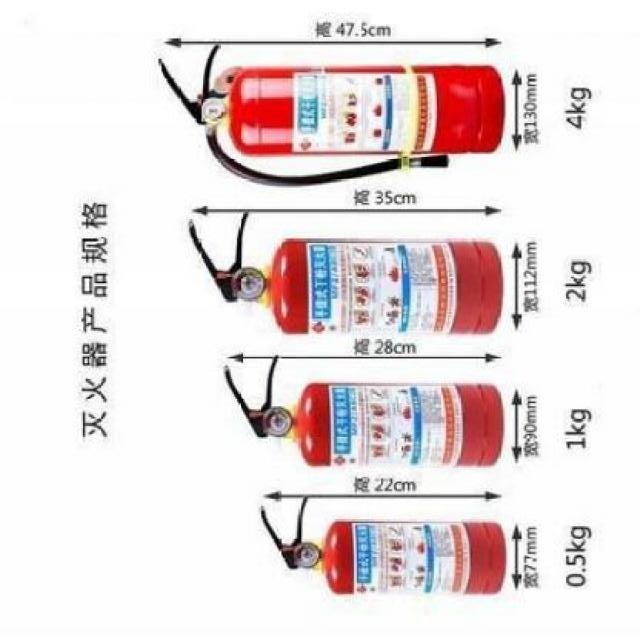fire extinguisher: (157, 44, 508, 188), (188, 212, 503, 336), (223, 355, 503, 468), (259, 494, 507, 594)
